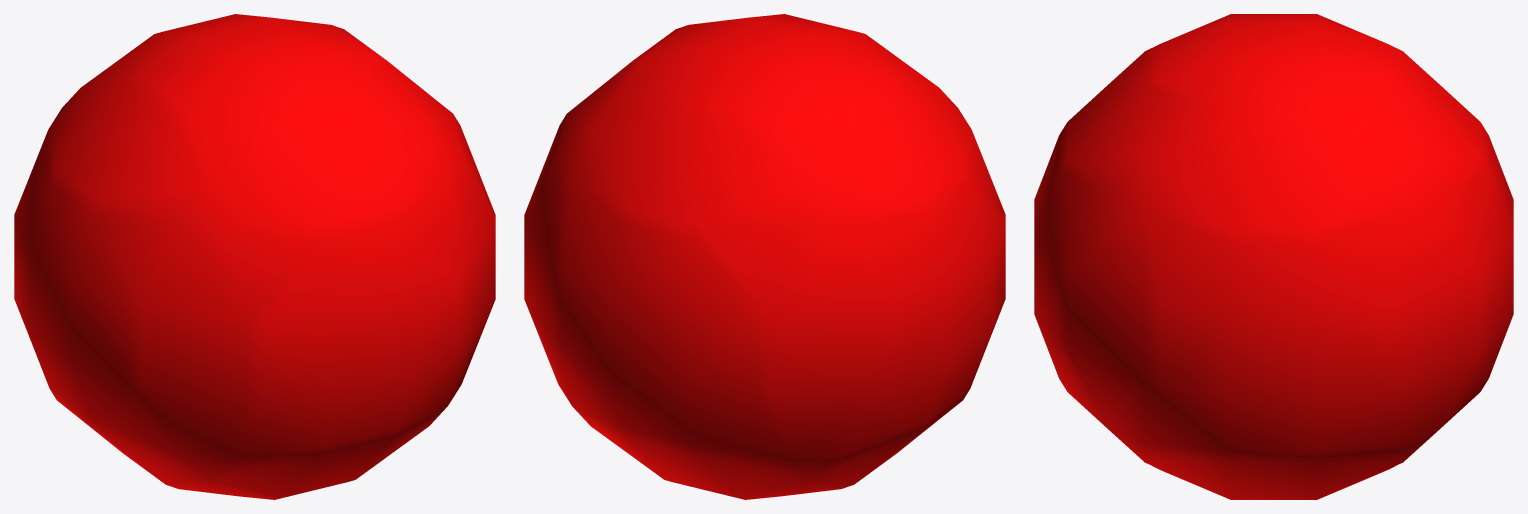
The model's file is killbutton.gltf.
The picture shows the model from 3 angles, left to right: view 1: azimuth 30°, elevation 25°; view 2: azimuth 150°, elevation 25°; view 3: azimuth 270°, elevation 25°; orthographic projection.
Visible parts, largest first — view 1: Mball.001_Mesh.001; view 2: Mball.001_Mesh.001; view 3: Mball.001_Mesh.001.
Boxes of the visible parts, bbox=[...] form: Mball.001_Mesh.001: bbox=[14, 14, 495, 499]; Mball.001_Mesh.001: bbox=[524, 14, 1005, 499]; Mball.001_Mesh.001: bbox=[1034, 14, 1513, 499].
Bounding box in the file's own units: 2.23 × 2.23 × 2.23.
1 material, 1 textured.
